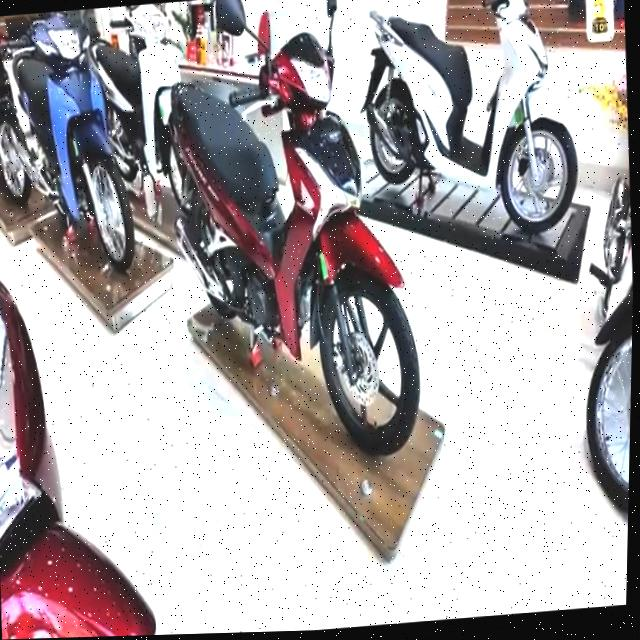motorcycle: (148, 0, 435, 475), (359, 0, 583, 245), (0, 8, 143, 283)
